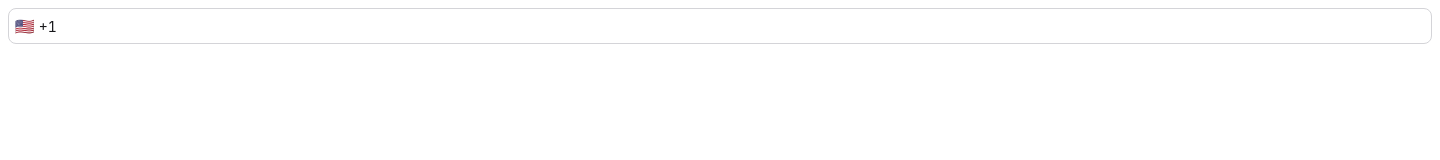
PhoneInput › switches country when an international number is typed
The width and height of the screenshot is (1440, 160).
Type "+442079460000" into the field named "Phone" at (720, 26), box top-left (8, 8), bottom-right (1432, 44)
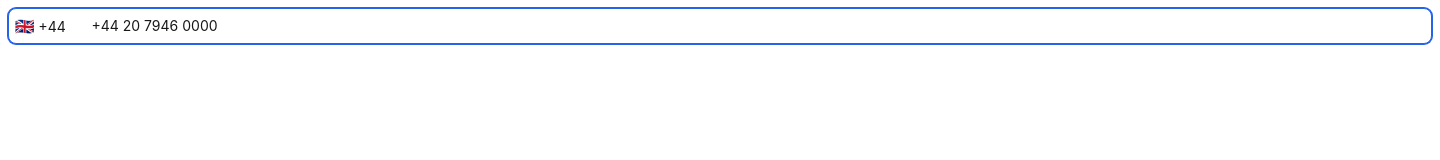
Check: the button named "Country:" has attribute aria-label="Country: United Kingdom +44", box top-left (9, 12), bottom-right (90, 40)
